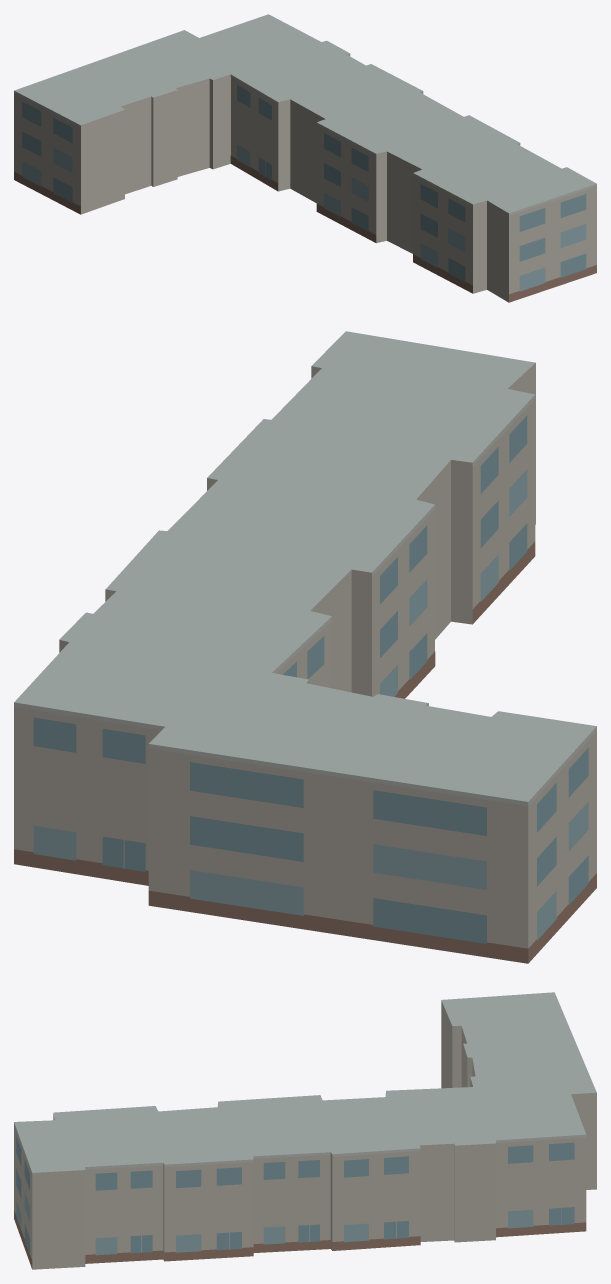
The model's file is survey-upis-32993561.glb.
3 renders of one model, top to bottom at view 1: azimuth 30°, elevation 25°; view 2: azimuth 150°, elevation 25°; view 3: azimuth 270°, elevation 25°, orthographic. The views are drawn at different scales.
Parts seen in each view (by area): view 1: survey-upis-32993561.tmp; view 2: survey-upis-32993561.tmp; view 3: survey-upis-32993561.tmp.
Part boxes in pixels (x1,y1,x2,y2): survey-upis-32993561.tmp: [14, 14, 596, 302]; survey-upis-32993561.tmp: [14, 331, 596, 963]; survey-upis-32993561.tmp: [14, 992, 596, 1269].
Size of the model in its own units: 36.64 by 9.15 by 49.96.
